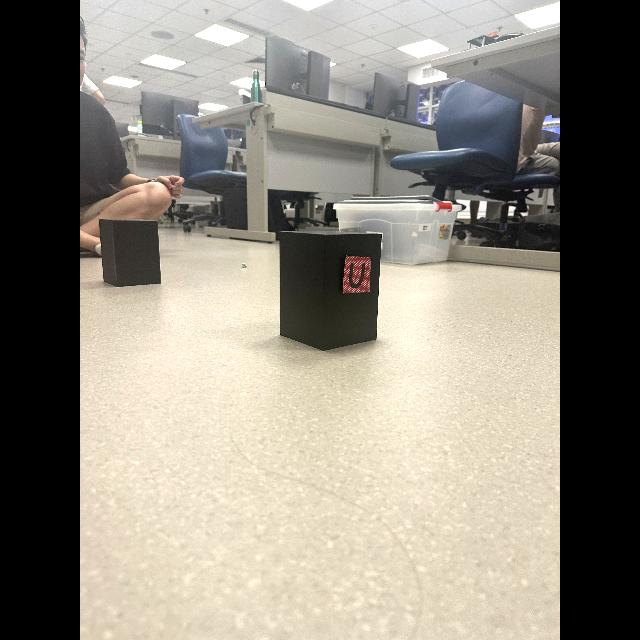U: (349, 263, 366, 288)
